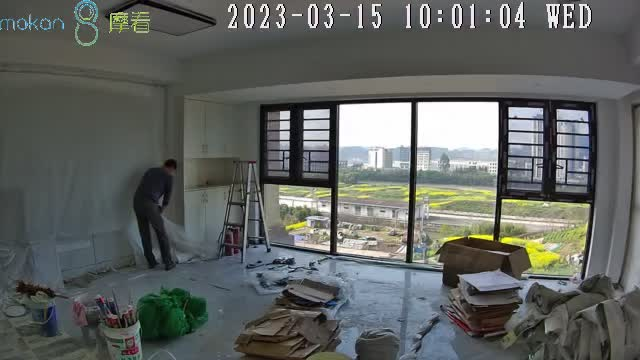people: (133, 157, 178, 270)
window: (258, 100, 595, 282)
